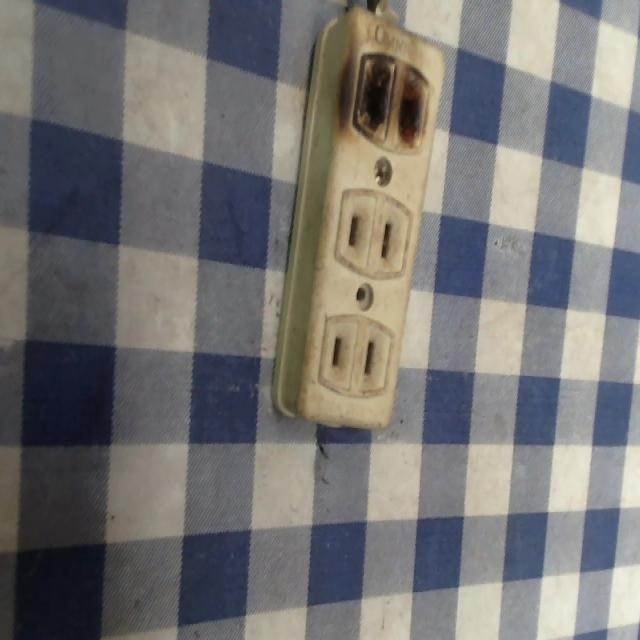-: (347, 43, 438, 157)
